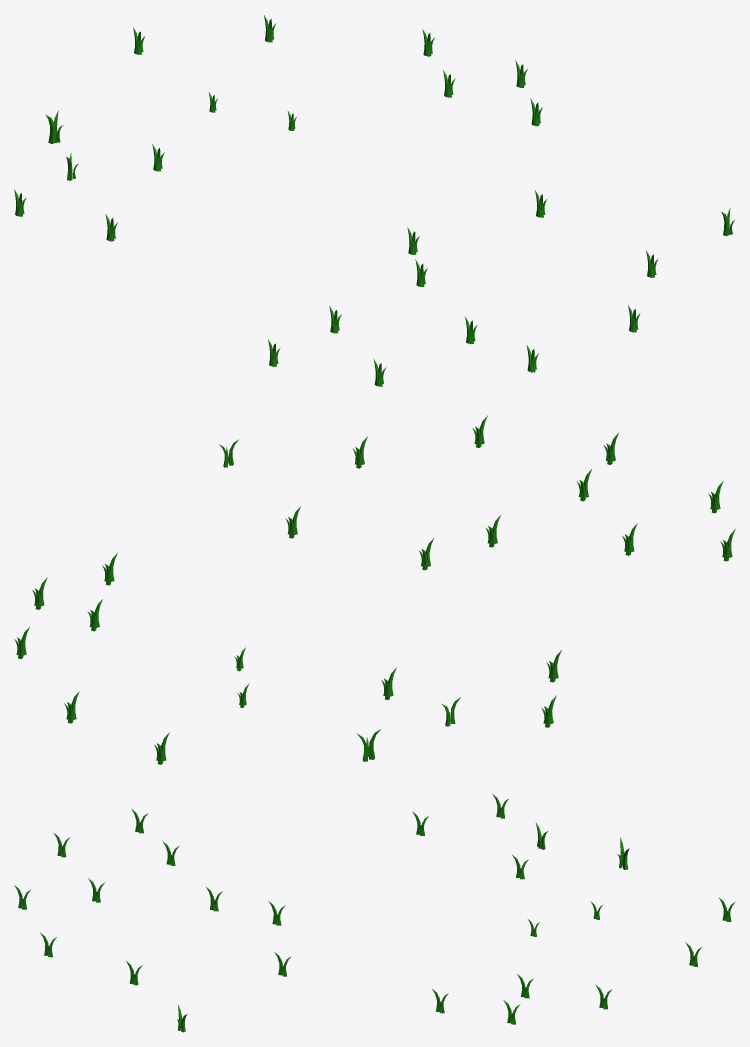
The model's file is Grass.fbx.
The picture shows the model from 3 angles, top to bottom: view 1: azimuth 30°, elevation 25°; view 2: azimuth 150°, elevation 25°; view 3: azimuth 270°, elevation 25°; orthographic projection. The views are drawn at different scales.
Size of the model in its own units: 33042 by 2137 by 47321.
